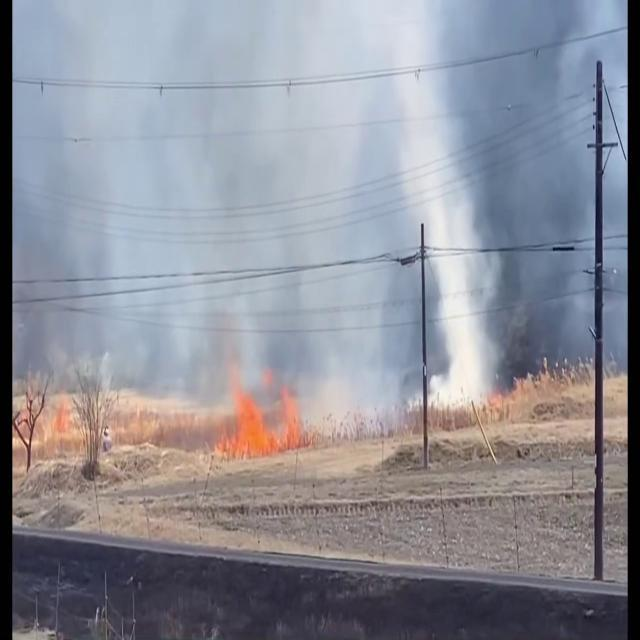Fire: (216, 368, 326, 466)
Smoke: (19, 1, 620, 434)
